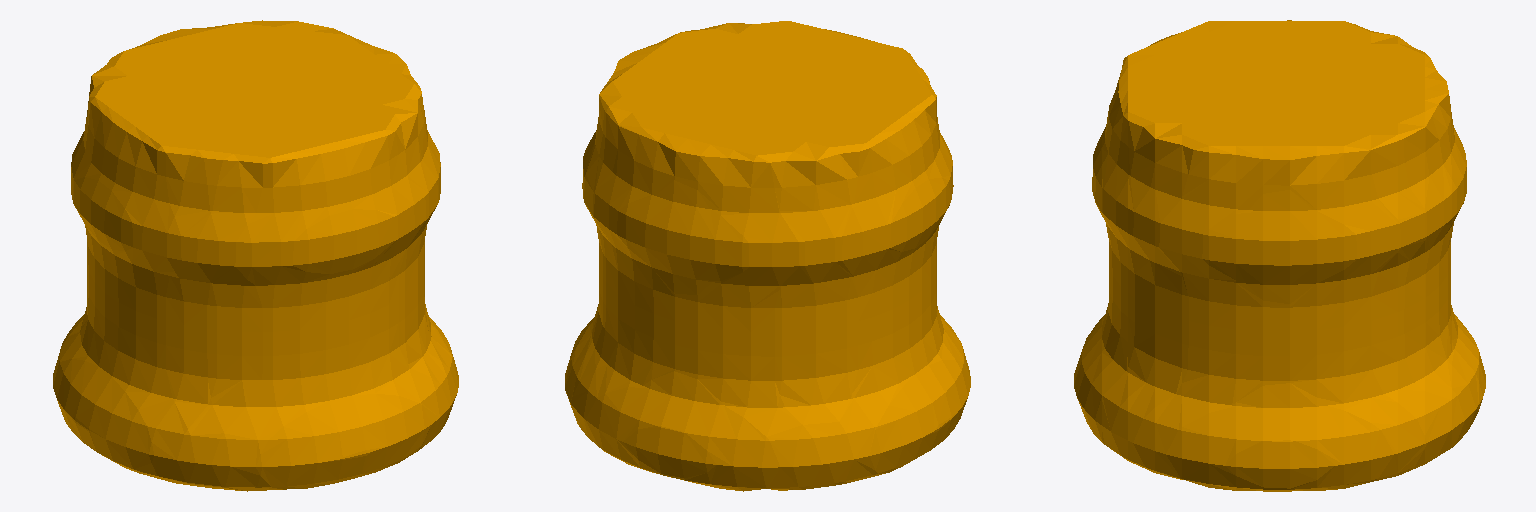
The robot description file, URDF, robot "cylinder_../../meshes/cylinders/cylinder_23.stl":
<?xml version="1.0" encoding="utf-8"?>  <robot name="cylinder_../../meshes/cylinders/cylinder_23.stl">   <link name="cylinder_../../meshes/cylinders/cylinder_23.stl">     <visual>       <geometry>         <mesh filename="../meshes/cylinders/cylinder_23.stl" scale="1 1 1"/>       </geometry>     </visual>     <collision>       <geometry>         <mesh filename="../meshes/cylinders/cylinder_23.stl" scale="1 1 1"/>       </geometry>     </collision>     <inertial>        <origin         xyz="0 0 0"         rpy="0 0 0" />       <mass value="0.2325221806271714"/>       <origin rpy="0 0 0" xyz="0 0 0"/>       <inertia ixx="0.00015558108009168197" ixy="-6.986403144903645e-08" ixz="-6.789131962114685e-09" iyy="0.00015557971773333607" iyz="-4.952155983910886e-09" izz="0.00013531774781765291"/>     </inertial>   </link>  </robot>

--- Render facts (derived) ---
Views: 3 orthographic renders of the robot side by side, from view 1: azimuth 30°, elevation 25°; view 2: azimuth 150°, elevation 25°; view 3: azimuth 270°, elevation 25°.
Model cylinder_../../meshes/cylinders/cylinder_23.stl with 1 links and 0 joints (none), rooted at cylinder_../../meshes/cylinders/cylinder_23.stl, posed all joints at 0.
Visible links, largest first — view 1: cylinder_../../meshes/cylinders/cylinder_23.stl; view 2: cylinder_../../meshes/cylinders/cylinder_23.stl; view 3: cylinder_../../meshes/cylinders/cylinder_23.stl.
Link boxes in pixels (box(x1,y1,x2,y2)): cylinder_../../meshes/cylinders/cylinder_23.stl: box(53, 20, 458, 491); cylinder_../../meshes/cylinders/cylinder_23.stl: box(565, 21, 970, 491); cylinder_../../meshes/cylinders/cylinder_23.stl: box(1074, 20, 1485, 491).
Size in the robot's own frame: 0.0765 by 0.0765 by 0.0684 metres.
1 mesh visuals loaded from 1 distinct referenced files (1 binary STL).